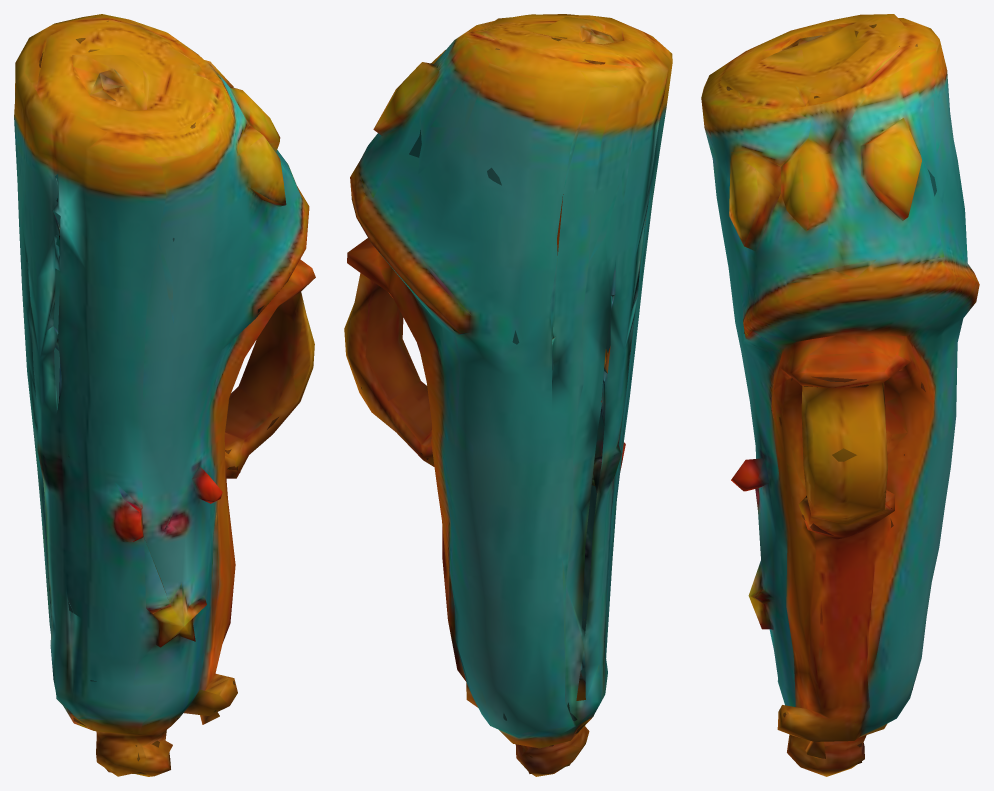
The model's file is prp_canon_nuage.glb.
3 views of the same model, side by side, from view 1: azimuth 30°, elevation 25°; view 2: azimuth 150°, elevation 25°; view 3: azimuth 270°, elevation 25° (orthographic). The views are drawn at different scales.
Parts seen in each view (by area): view 1: prp_canon_nuage; view 2: prp_canon_nuage; view 3: prp_canon_nuage.
Boxes of the visible parts, x1,y1,x2,y2 form: prp_canon_nuage: (14, 14, 315, 776); prp_canon_nuage: (344, 14, 672, 776); prp_canon_nuage: (701, 14, 979, 776).
Size of the model in its own units: 0.5449 by 1.36 by 0.4685.
Materials: 1 (1 with a texture image).
